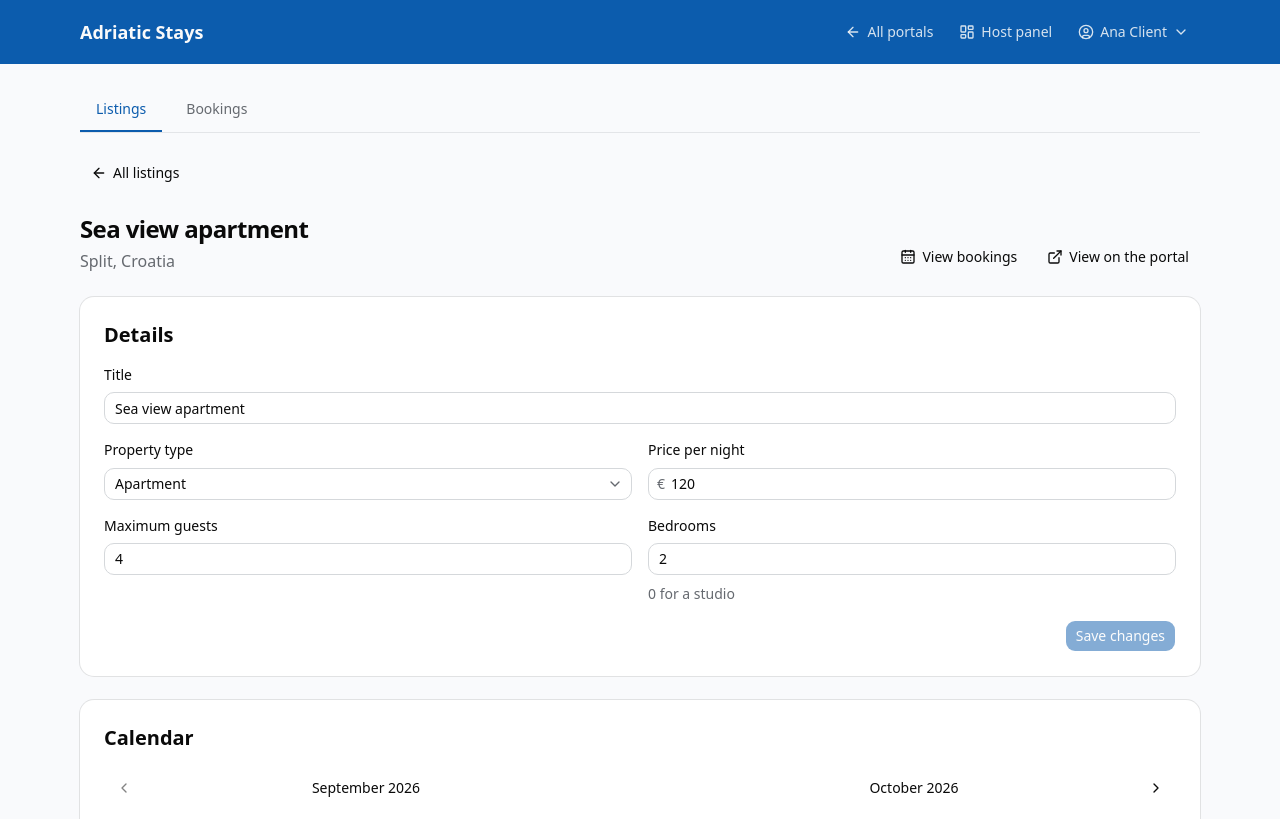
it: HostListingPage — editor › asks for 0 bedrooms when the listing becomes a studio
Step 1. Click the dropdown named "Property type" → x=150, y=483, box [104,468,632,500]
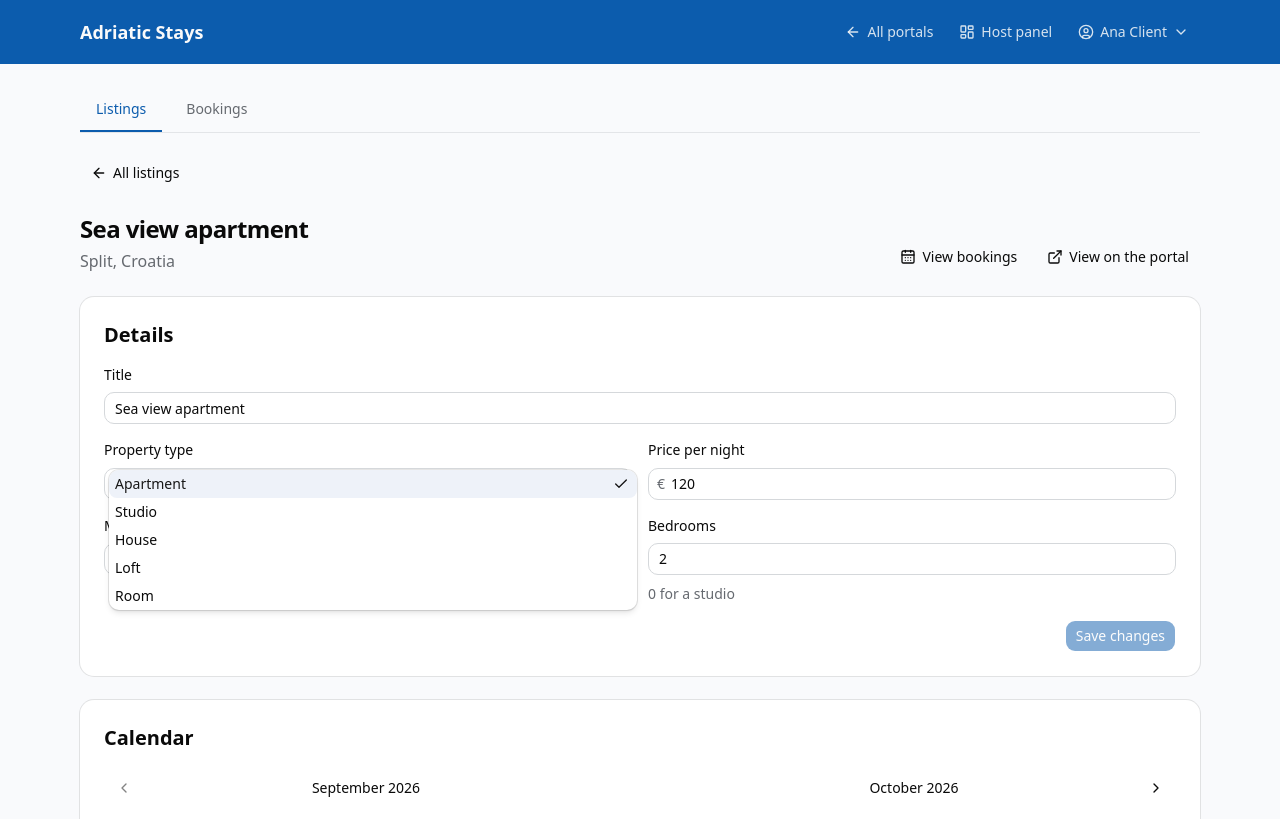
Step 2. Click the option "Studio" → x=136, y=511, box [115,502,157,520]
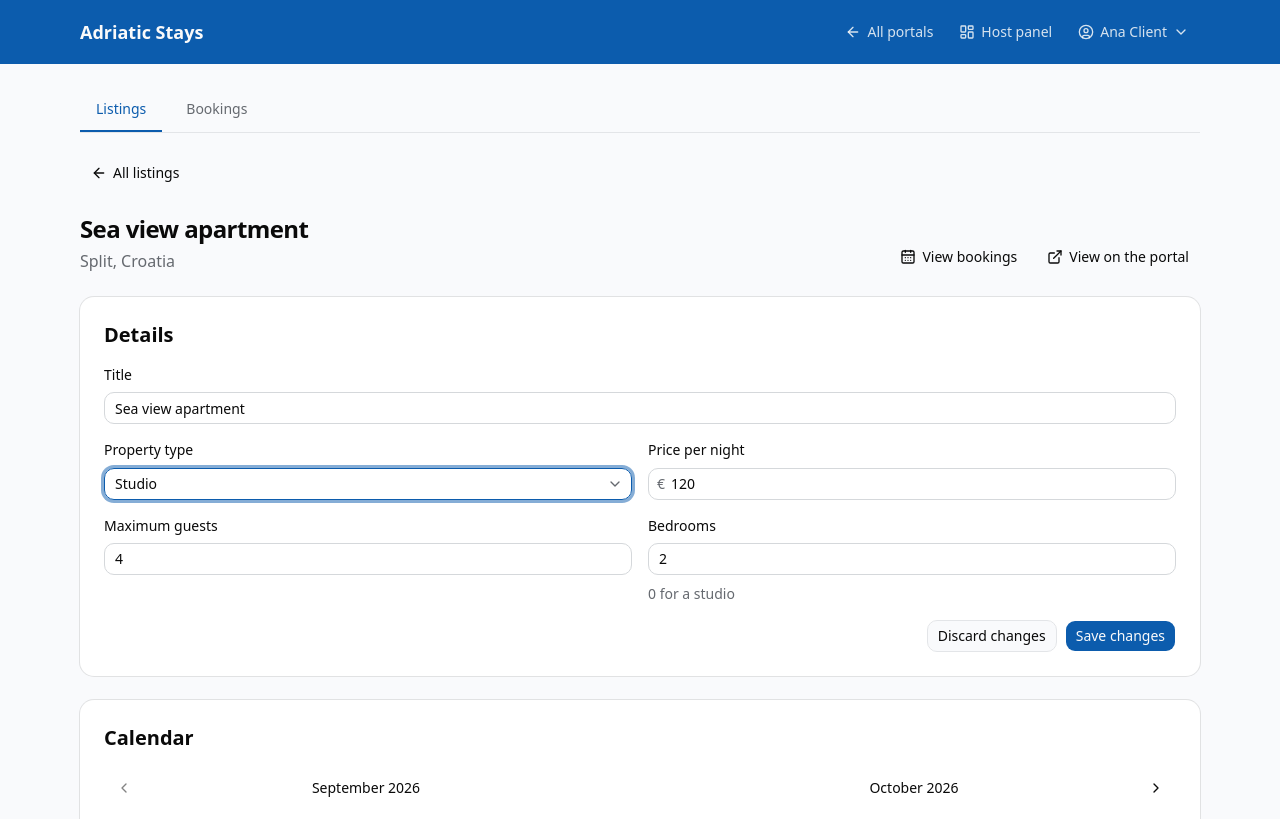
Step 3. Click the button "Save changes" → x=1120, y=636, box [1065,620,1176,652]
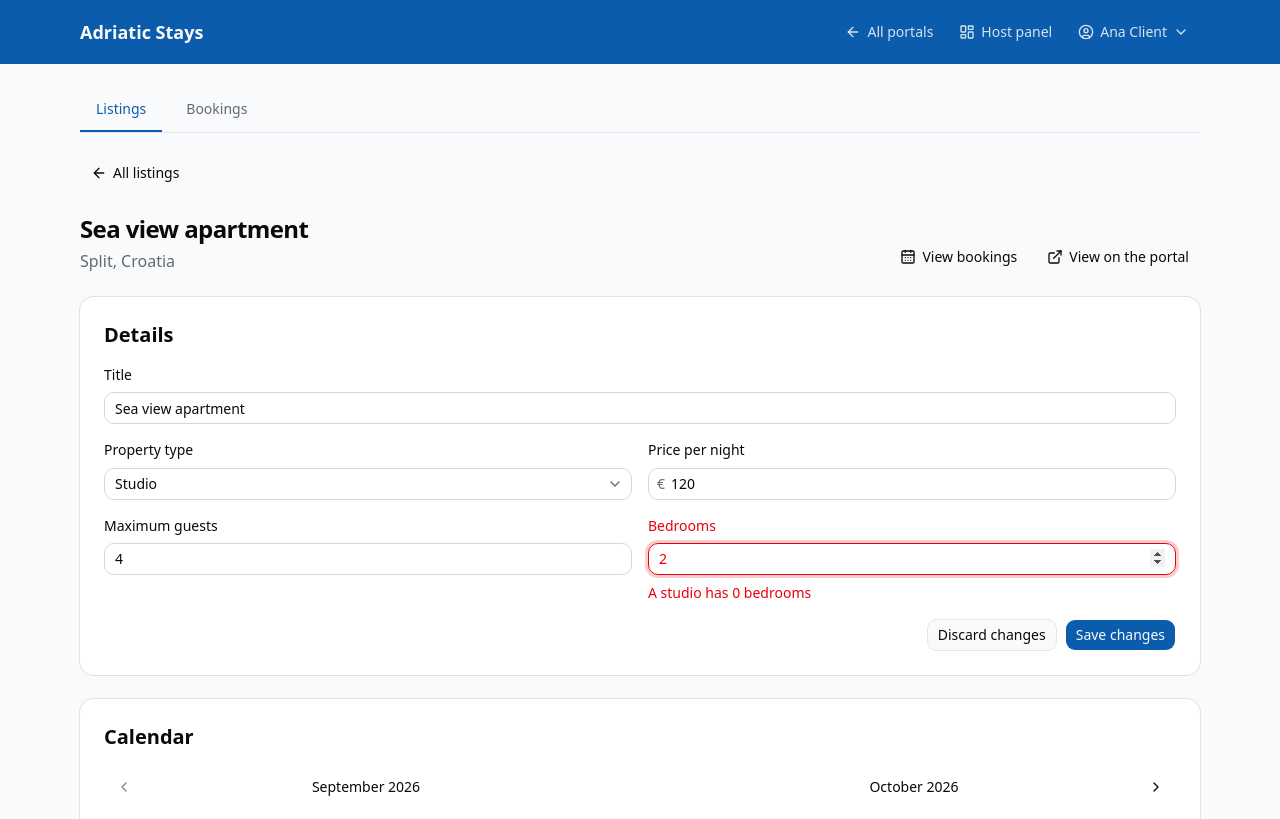
Check: the text "A studio has 0 bedrooms" is shown, box [648,583,811,602]
